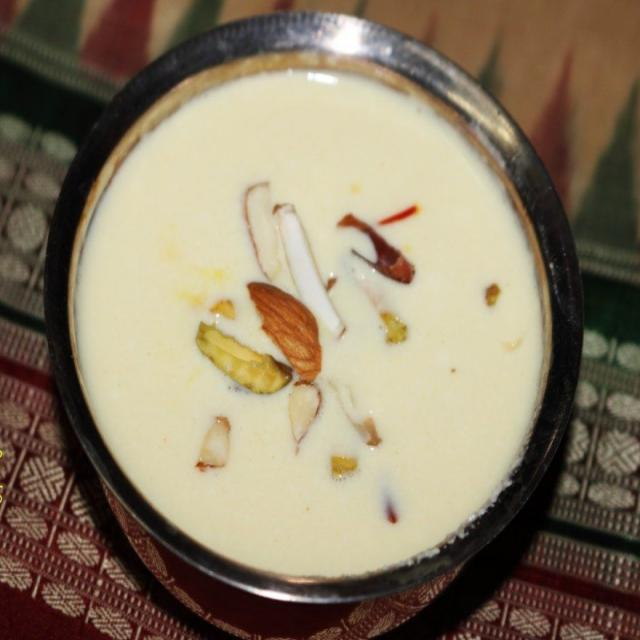Kheer: (96, 62, 553, 587)
